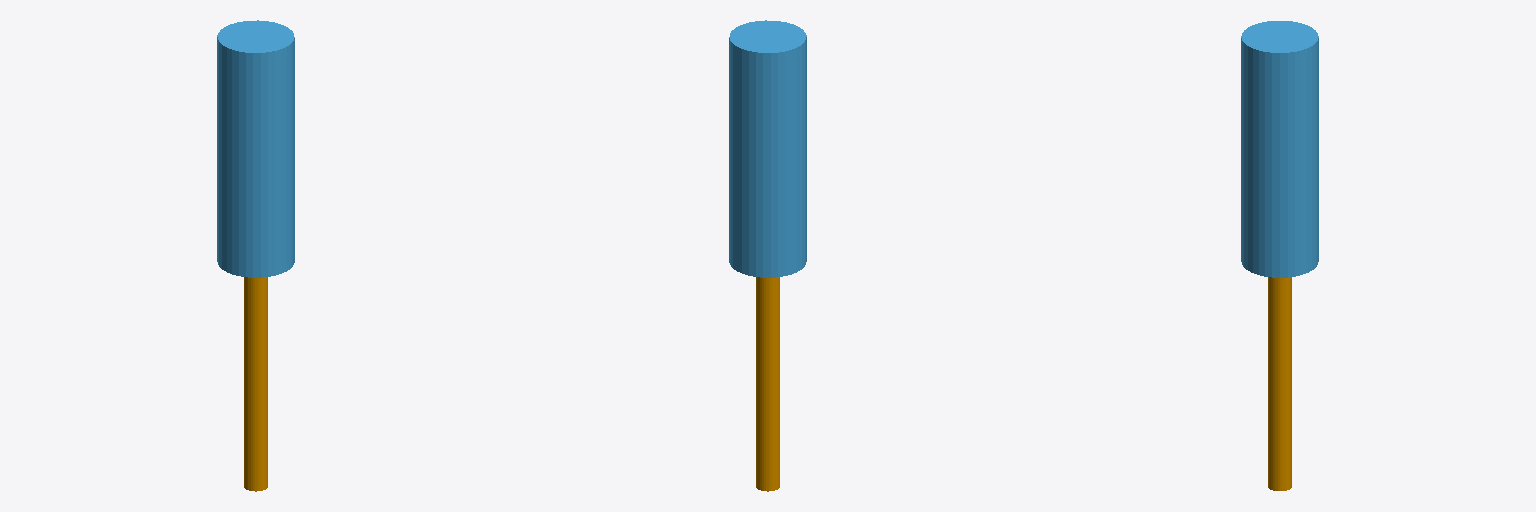
The robot description file, URDF, robot "screwdriver_on_the_table":
<?xml version="1.0" ?>
<!-- this is the one without any virtual joints and links -->
<robot name="screwdriver_on_the_table">
<link name="screwdriver_stick">
    <inertial>
      <mass value="0.05"/>
      <!-- <friction value="1.0"/> -->
      <inertia ixx="0.000041979" ixy="0.0" ixz="0.0" iyy="0.000041979" iyz="0.0" izz="0.000000625"/>
    </inertial>
    <visual>
        <origin rpy="0 0 0" xyz="0 0 0.05"/>
        <geometry>
            <cylinder radius="0.005" length="0.1"/>
        </geometry>
        <!-- <material name="White">
	 	    <color rgba="0.9 0.9 0.9 0.5"/>
        </material> -->
    </visual>
    <collision>
        <origin rpy="0 0 0" xyz="0 0 0.05"/>
        <geometry>
            <cylinder radius="0.005" length="0.1"/>
        </geometry>
    </collision>
</link>

<gazebo reference="screwdriver_body">
    <mu1>0.778791</mu1>
    <mu2>1.106024</mu2>
    <!-- Isaac Sim maps mu1/mu2 to PhysX static/dynamic friction during URDF→USD import -->
</gazebo>

<joint name="screwdriver_stick_body_joint" type="fixed">
    <parent link="screwdriver_stick"/>
    <child link="screwdriver_body"/>
    <origin rpy="0 0 0" xyz="0 0 0.1"/> 
    <axis xyz="0 0 1"/>
</joint>

<link name="screwdriver_body">
    <inertial>
      <mass value="0.156942"/>
      <inertia ixx="0.000140335" ixy="0.0" ixz="0.0" iyy="0.000140335" iyz="0.0" izz="0.000019100"/>
    </inertial>
    <visual>
        <origin rpy="0 0 0" xyz="0 0 0.05"/>
        <geometry>
            <cylinder radius="0.015601" length="0.1"/>
        </geometry>
        <!-- <material name="Red1">
	 	    <color rgba="0.9 0. 0. 0.5"/>
        </material> -->
    </visual>
    <collision>
        <origin rpy="0 0 0" xyz="0 0 0.05"/>
        <geometry>
            <cylinder radius="0.015601" length="0.1"/>
        </geometry>
    </collision>
</link>

<!-- <joint name="screwdriver_body_cap_joint" type="revolute">
    <parent link="screwdriver_body"/>
    <child link="screwdriver_cap"/>
    <origin rpy="0 0 0" xyz="0 0 0.1"/> 
    <axis xyz="0 0 1"/>
</joint>

<link name="screwdriver_cap">
    <inertial>
      <mass value="0.005"/>
      <inertia ixx="0.00001" ixy="0.0" ixz="0.0" iyy="0.000005" iyz="0.0" izz="0.000005"/>
    </inertial>
    <visual>
        <origin rpy="0 0 0" xyz="0 0 0.0006"/>
        <geometry>
            <cylinder radius="0.02" length="0.001"/>
        </geometry>
        <material name="Yellow">
	 	    <color rgba="0.9 0.9 0. 1.0"/>
        </material>
    </visual>
    <collision>
        <origin rpy="0 0 0" xyz="0 0 0.0005"/>
        <geometry>
            <cylinder radius="0.02" length="0.001"/>
        </geometry>
    </collision>
</link> -->

</robot>

--- Facts derived from the render (not from the file) ---
3 views of the same robot in one strip: view 1: azimuth 30°, elevation 25°; view 2: azimuth 150°, elevation 25°; view 3: azimuth 270°, elevation 25° (orthographic).
Robot: screwdriver_on_the_table — 2 links, 1 joints (1 fixed); root link screwdriver_stick; default pose: all joints at 0.
Visible links, largest first — view 1: screwdriver_body, screwdriver_stick; view 2: screwdriver_body, screwdriver_stick; view 3: screwdriver_body, screwdriver_stick.
Boxes of the visible links, x1,y1,x2,y2 form: screwdriver_body: (217, 20, 294, 277); screwdriver_stick: (244, 277, 267, 491); screwdriver_body: (729, 20, 806, 277); screwdriver_stick: (756, 277, 779, 491); screwdriver_body: (1241, 21, 1318, 277); screwdriver_stick: (1268, 277, 1291, 490).
Size in the robot's own frame: 0.0312 by 0.0312 by 0.2 metres.
Geometry: primitives only (box / cylinder / sphere), no mesh files.
